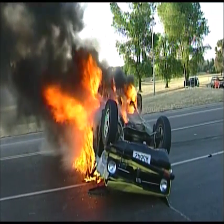fire_h: (44, 53, 103, 175), (120, 84, 139, 123), (103, 77, 119, 109)
fire_l: (84, 170, 100, 183)
